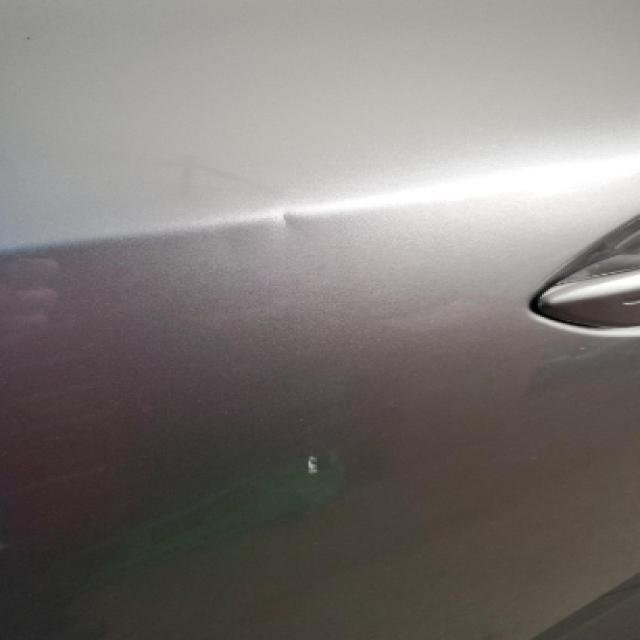dents: (248, 199, 361, 270), (266, 431, 371, 501)
